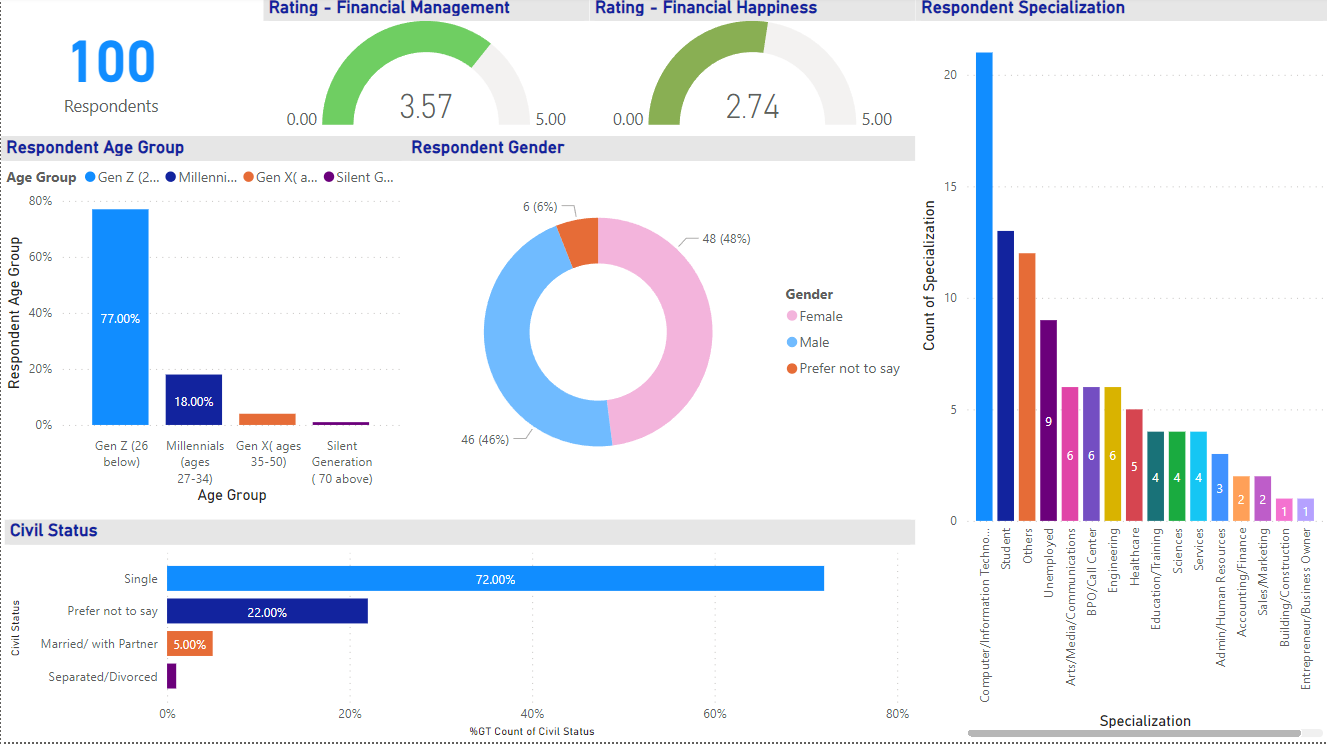

The dashboard page shown, as its layout file describes it:
{"tool":"powerbi","page":{"name":"Summary","canvas":[1280,720],"ordinal":3},"visuals":[{"type":"card","fields":{"Values":["CountNonNull(Pinoy Money Habits.Respondent)"]},"box":[0,0,212.7,134.5],"z":0},{"type":"columnChart","title":"Respondent Age Group","fields":{"Category":["Pinoy Money Habits.Age Group"],"Y":["CountNonNull(Pinoy Money Habits.Respondent)"],"Series":["Pinoy Money Habits.Age Group"]},"box":[0,134.5,391.1,359.5],"z":1000},{"type":"gauge","title":"Rating - Financial Management","fields":{"Y":["Avg(Pinoy Money Habits.If you will rate yourself in managing your finances from 1-5(5 being the highest), what is your r"]},"box":[253.9,0,314.2,134.5],"z":2000},{"type":"gauge","title":"Rating - Financial Happiness","fields":{"Y":["Avg(Pinoy Money Habits.How happy are you in your current financial status (5 being the highest), what is your rating?)"]},"box":[568.1,0,314.2,134.5],"z":3000},{"type":"barChart","title":"Civil Status","fields":{"Category":["Pinoy Money Habits.Civil Status"],"Y":["CountNonNull(Pinoy Money Habits.Civil Status)"],"Series":["Pinoy Money Habits.Civil Status"]},"box":[4.1,505,878.2,215.4],"z":4000},{"type":"donutChart","title":"Respondent Gender","fields":{"Category":["Pinoy Money Habits.Gender"],"Y":["CountNonNull(Pinoy Money Habits.Gender)"]},"box":[391.1,134.5,491.3,359.5],"z":5000},{"type":"columnChart","title":"Respondent Specialization","fields":{"Category":["Pinoy Money Habits.Specialization"],"Y":["CountNonNull(Pinoy Money Habits.Specialization)"],"Series":["Pinoy Money Habits.Specialization"]},"box":[882.3,0,397.9,720.4],"z":6000}]}

Visuals, with their boxes in screenshot pixels (x1, y1, x2, y2), scaled from the page's 1280x720 canvas onto the 1327x745 screenshot:
card - CountNonNull(Pinoy Money Habits.Respondent): locate(0, 0, 221, 139)
"Respondent Age Group" columnChart: locate(0, 139, 405, 511)
"Rating - Financial Management" gauge: locate(263, 0, 589, 139)
"Rating - Financial Happiness" gauge: locate(589, 0, 915, 139)
"Civil Status" barChart: locate(4, 523, 915, 744)
"Respondent Gender" donutChart: locate(405, 139, 915, 511)
"Respondent Specialization" columnChart: locate(915, 0, 1326, 744)
